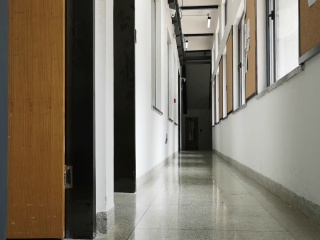room: (2, 1, 98, 235)
